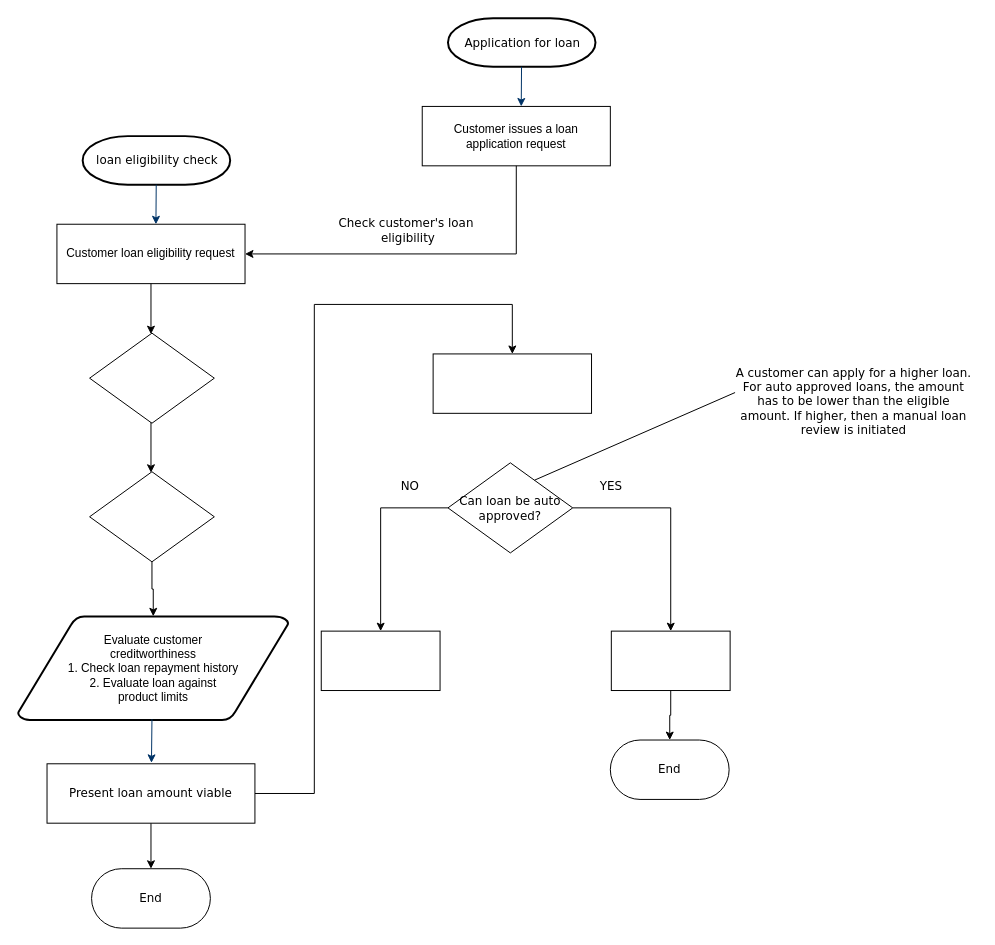
This 995x945 diagram has some shape labels left out. Each missing label, with the box of its shape:
APPROVED & Funds Disbursed: (610, 630, 730, 691)
Awaiting for Loan Review: (320, 630, 440, 691)
Is customer valid?: (89, 471, 214, 562)
Is product valid?: (89, 332, 214, 423)
Prepare loan: (432, 353, 592, 413)
